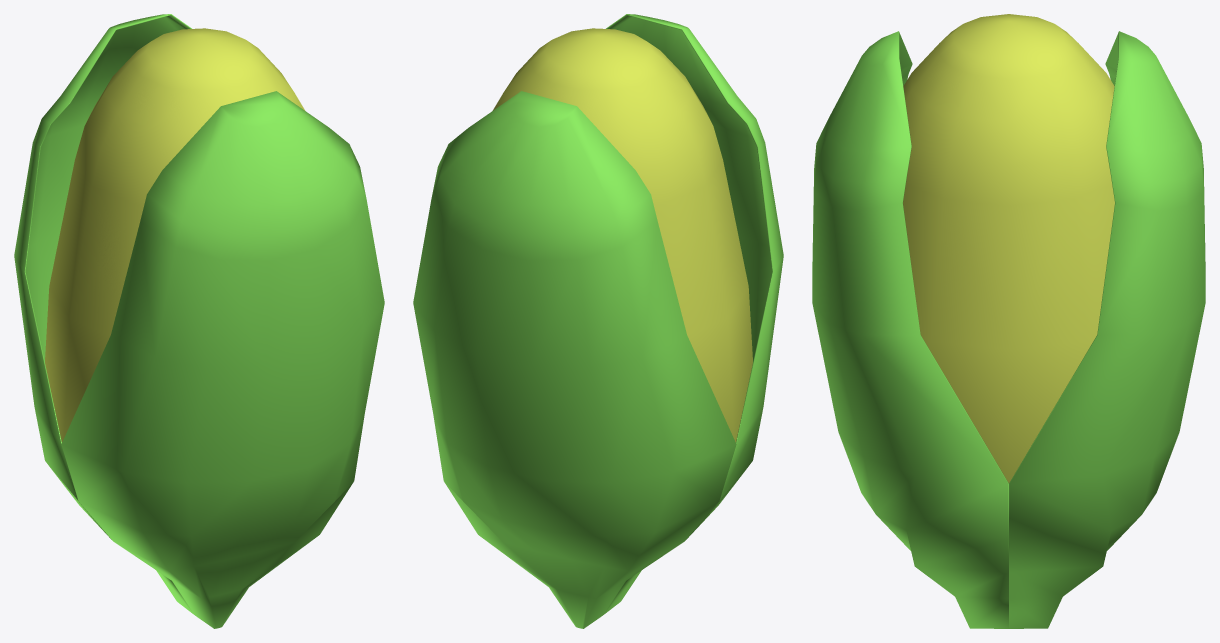
The model's file is corn.fbx.
3 views of the same model, side by side, from view 1: azimuth 30°, elevation 25°; view 2: azimuth 150°, elevation 25°; view 3: azimuth 270°, elevation 25° (orthographic). The views are drawn at different scales.
Parts seen in each view (by area): view 1: Sphere.003, Sphere.002; view 2: Sphere.003, Sphere.002; view 3: Sphere.003, Sphere.002.
Boxes of the visible parts, x1,y1,x2,y2 form: Sphere.003: (14, 14, 384, 628); Sphere.002: (45, 28, 305, 442); Sphere.003: (413, 14, 783, 628); Sphere.002: (492, 28, 752, 442); Sphere.003: (812, 31, 1205, 628); Sphere.002: (903, 14, 1114, 482).
Size of the model in its own units: 277 by 554 by 326.
